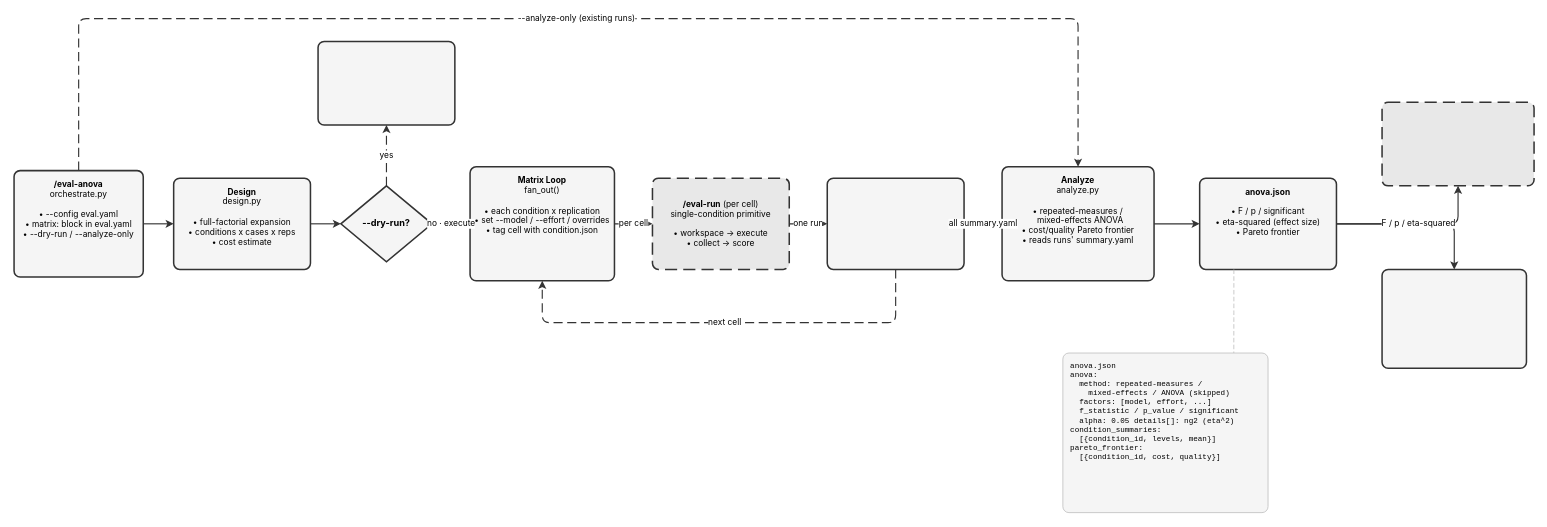
Image size: 1547x527. Some labels were removed from this diagram. Here are the shapes that lost their labels. From the top down, the box of each, then its label:
(317, 40, 455, 125): Print Grid + Cost • condition grid • estimated cost • STOP — no execution
(1381, 101, 1534, 186): /eval-compare • leaderboard + heatmap • ANOVA/Pareto stats section
(826, 177, 964, 270): Standard Run • summary.yaml • condition.json • under $AGENT_EVAL_RUNS_DIR
(1381, 268, 1527, 369): Deep View report.py • condition means • F / p / eta-squared • per-case matrix
